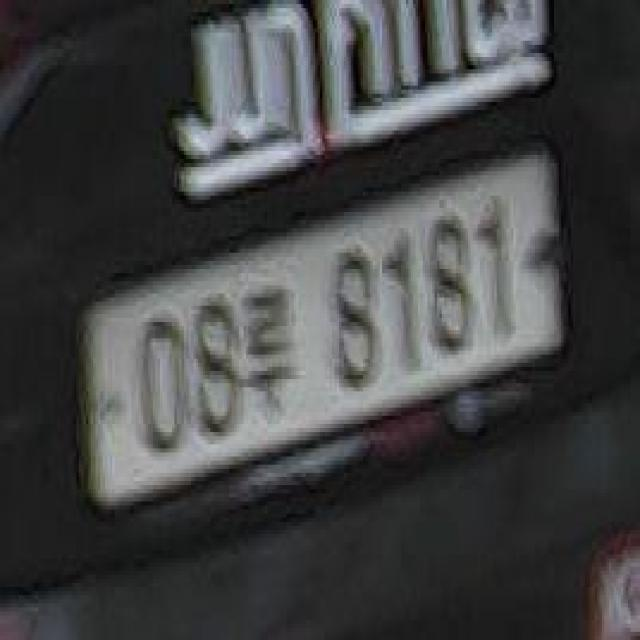illegal_plate: (67, 132, 574, 482)
